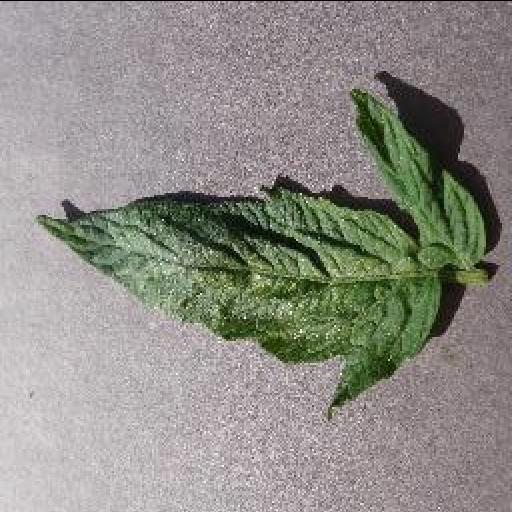disease_tomato: (34, 88, 488, 413)
